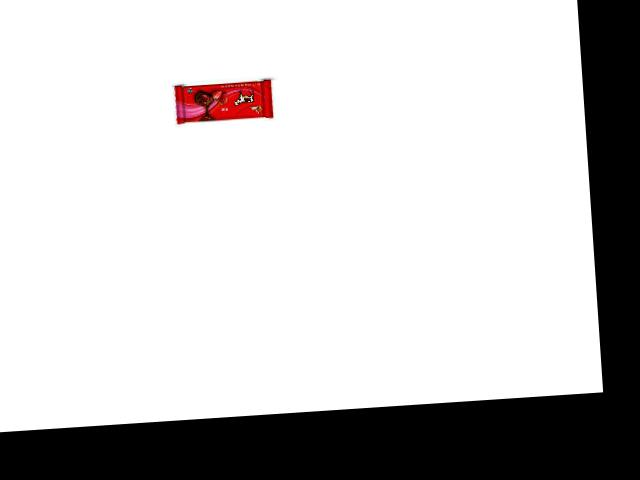chocolate: (173, 71, 280, 123)
